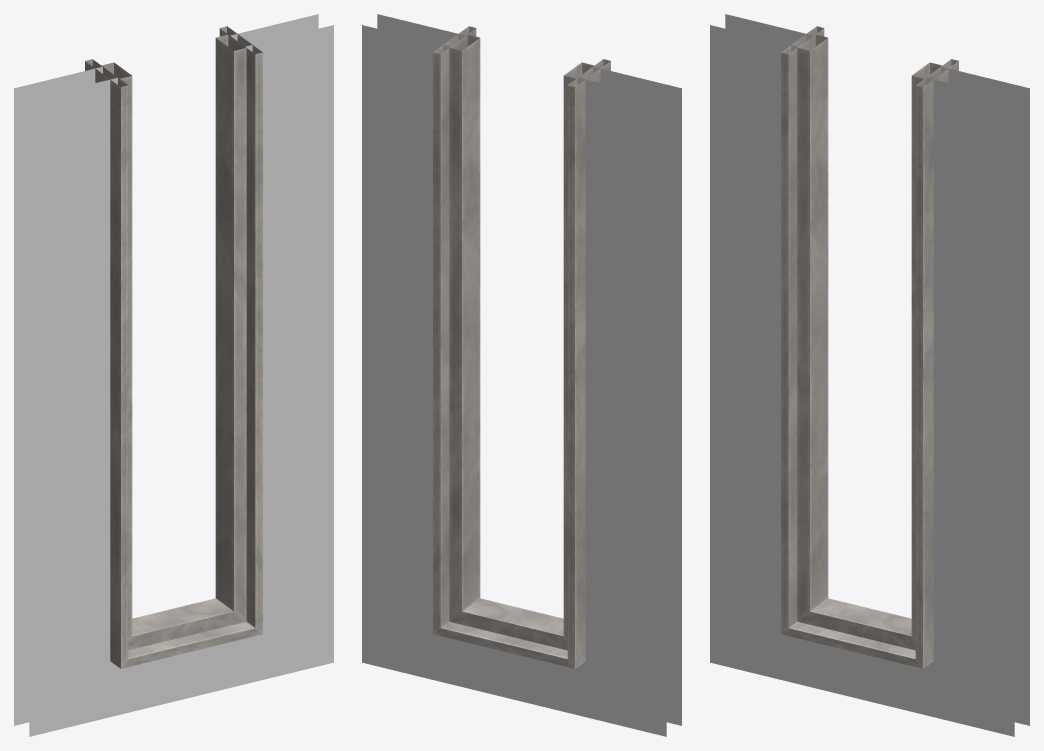
Rendered from Wall_D_E.fbx.
The picture shows the model from 3 angles, left to right: view 1: azimuth 30°, elevation 25°; view 2: azimuth 150°, elevation 25°; view 3: azimuth 330°, elevation 25°; orthographic projection.
Parts seen in each view (by area): view 1: Wall_D_E; view 2: Wall_D_E; view 3: Wall_D_E.
Part boxes in pixels (x1,y1,x2,y2): Wall_D_E: (14,14,333,736); Wall_D_E: (362,14,681,736); Wall_D_E: (710,14,1029,736).
Size of the model in its own units: 3 by 0.6115 by 6.
